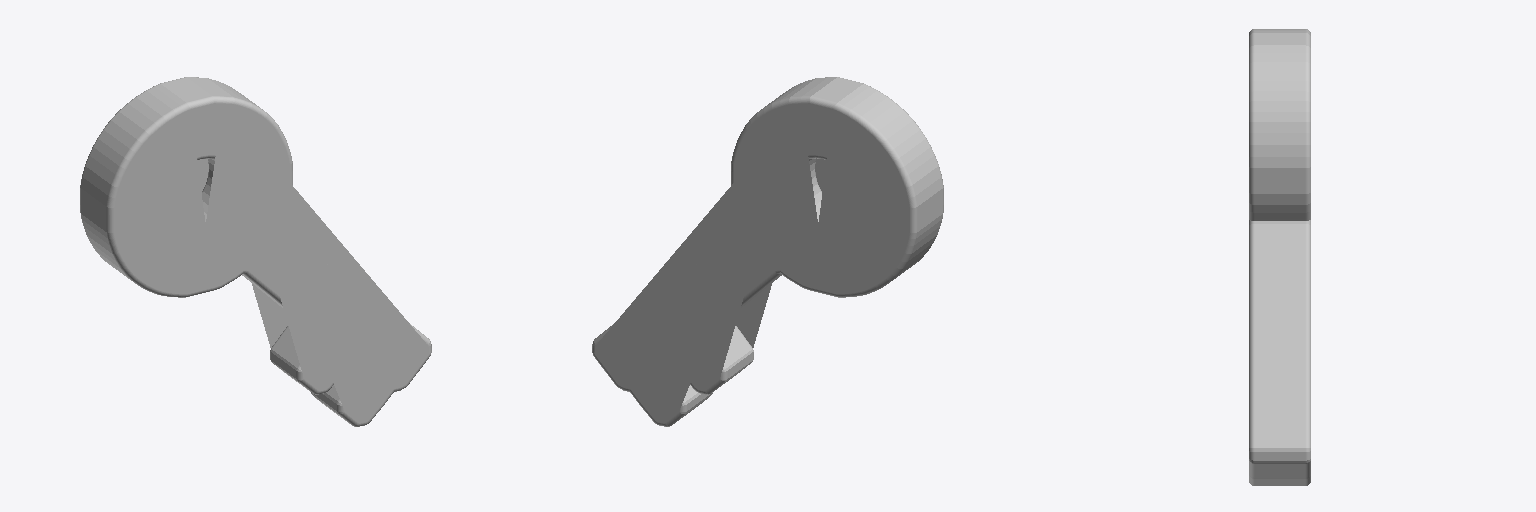
Rendered from Key.obj.
3 views of the same model, side by side, from view 1: azimuth 30°, elevation 25°; view 2: azimuth 150°, elevation 25°; view 3: azimuth 270°, elevation 25° (orthographic).
Visible parts, largest first — view 1: Key_Cube.005; view 2: Key_Cube.005; view 3: Key_Cube.005.
Boxes of the visible parts, x1,y1,x2,y2 form: Key_Cube.005: [80, 77, 431, 426]; Key_Cube.005: [592, 77, 943, 426]; Key_Cube.005: [1249, 29, 1310, 485].
Size of the model in its own units: 0.7528 by 0.8113 by 0.125.